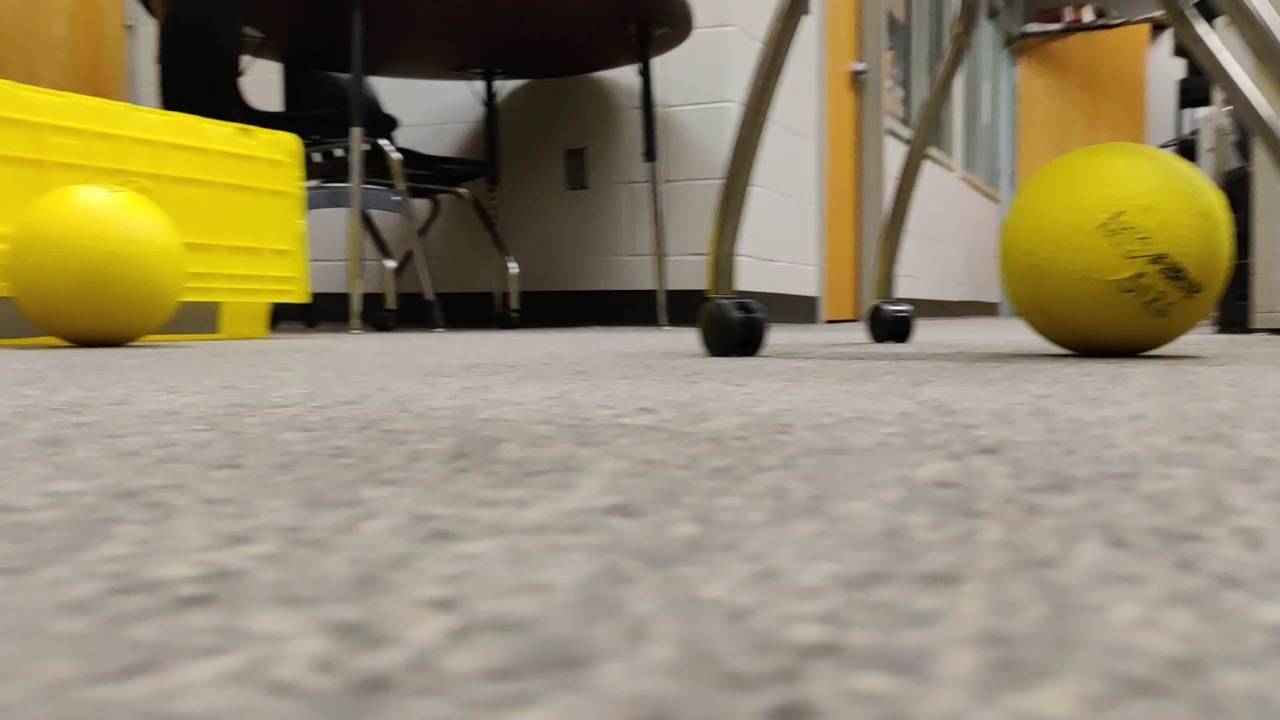Ball: (994, 140, 1235, 359), (8, 181, 191, 351)
